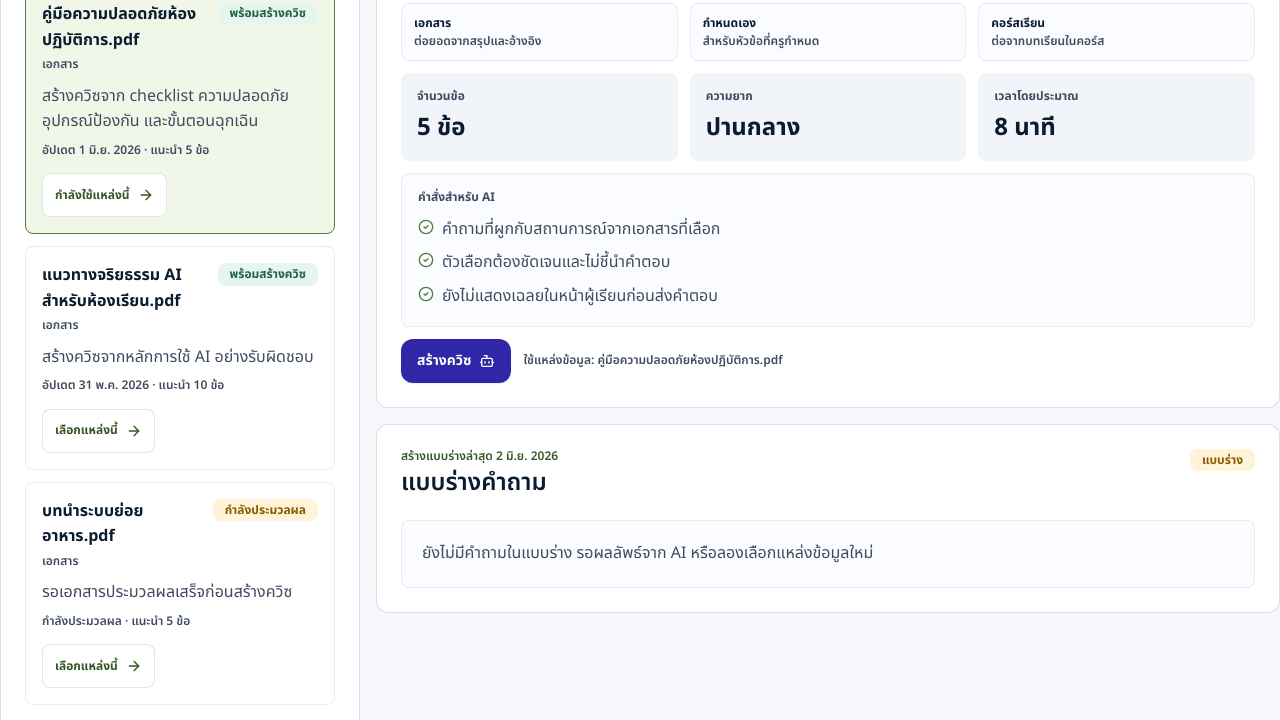
AiQuizGeneratorPage › keeps the selected source visible and shows a safe error when quiz generation fails
The image size is (1280, 720).
(page scrolled)
Click the button "สร้างควิซ" at [456, 360], box left=401, top=338, right=512, bottom=382
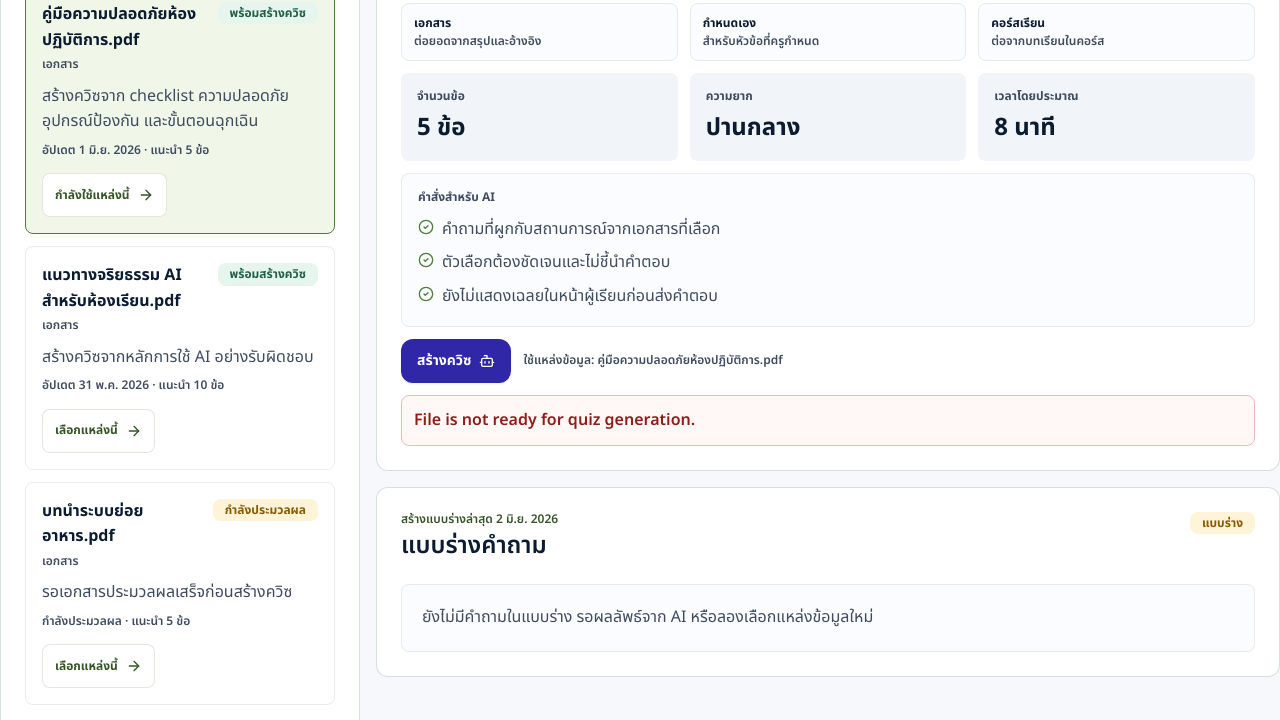
Expected: the text "คู่มือความปลอดภัยห้องปฏิบัติการ.pdf" is shown, left=42, top=2, right=206, bottom=53
Now the message "File is not ready for quiz generation." is shown, box left=401, top=394, right=1255, bottom=446
